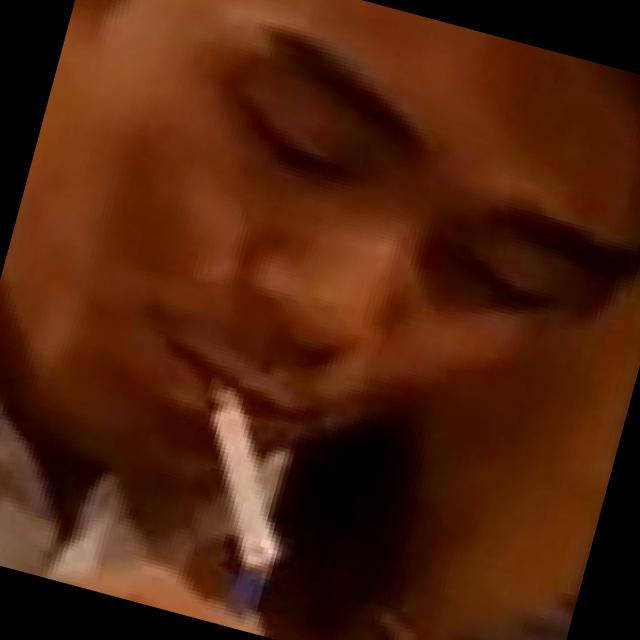smoke: (156, 365, 327, 582)
